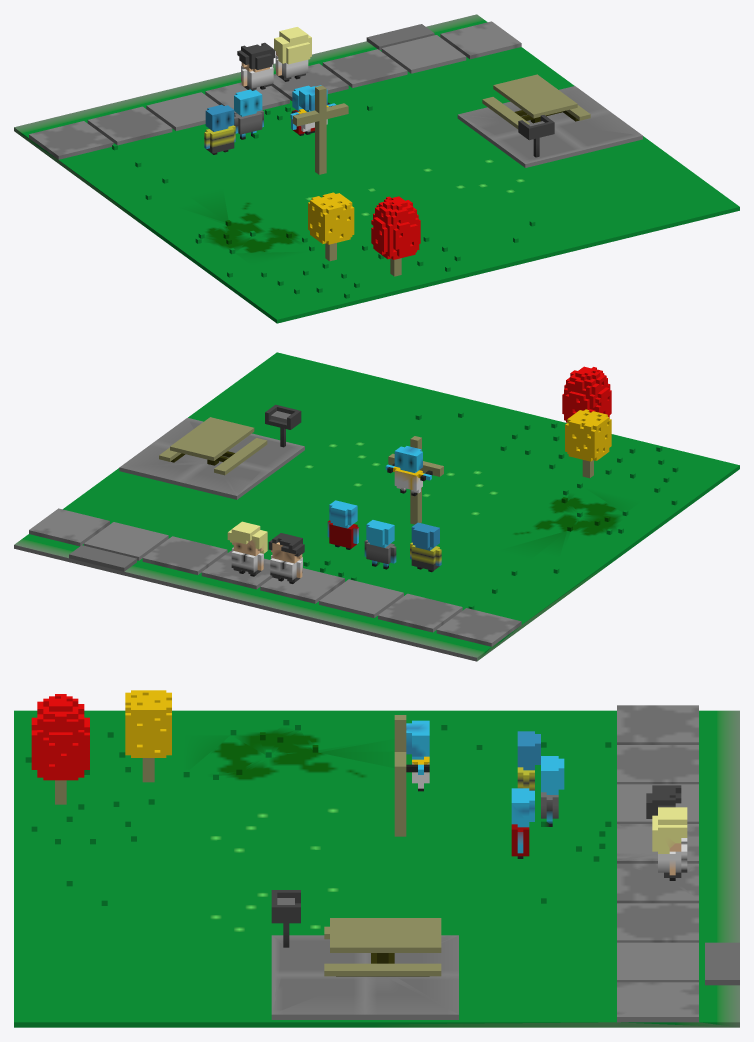
The model's file is scene_crucifix.dae.
The picture shows the model from 3 angles, top to bottom: view 1: azimuth 30°, elevation 25°; view 2: azimuth 150°, elevation 25°; view 3: azimuth 270°, elevation 25°; orthographic projection. The views are drawn at different scales.
Visible parts, largest first — view 1: scene_crucifix; view 2: scene_crucifix; view 3: scene_crucifix.
Part boxes in pixels (bbox=[...]): scene_crucifix: bbox=[14, 14, 739, 323]; scene_crucifix: bbox=[14, 352, 739, 661]; scene_crucifix: bbox=[14, 690, 739, 1027].
Bounding box in the file's own units: 12.6 × 12.4 × 2.3.
1 material, 1 textured.
